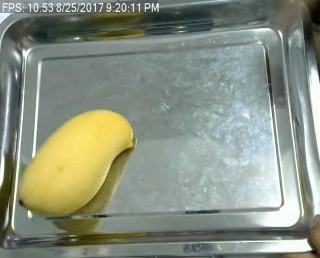Mango: (17, 107, 142, 221)
